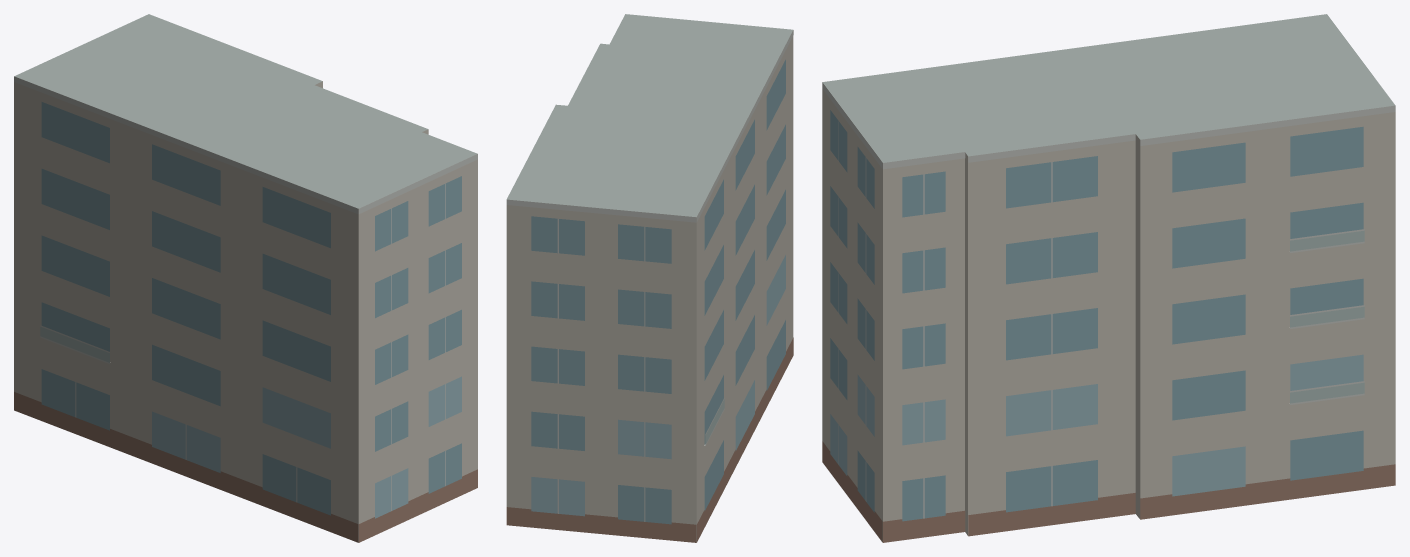
Rendered from survey-upis-32875387.glb.
The picture shows the model from 3 angles, left to right: view 1: azimuth 30°, elevation 25°; view 2: azimuth 150°, elevation 25°; view 3: azimuth 270°, elevation 25°; orthographic projection. The views are drawn at different scales.
Parts seen in each view (by area): view 1: survey-upis-32875387.tmp; view 2: survey-upis-32875387.tmp; view 3: survey-upis-32875387.tmp.
Boxes of the visible parts, x1,y1,x2,y2 form: survey-upis-32875387.tmp: (14,14,477,542); survey-upis-32875387.tmp: (506,14,793,542); survey-upis-32875387.tmp: (822,14,1395,542).
Bounding box in the file's own units: 12.25 × 14.55 × 19.91.
